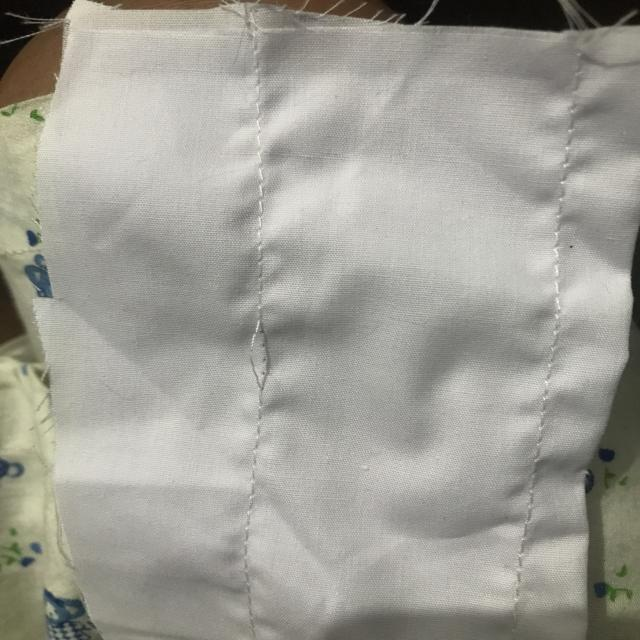good: (249, 196, 274, 280)
skip: (232, 305, 288, 412)
